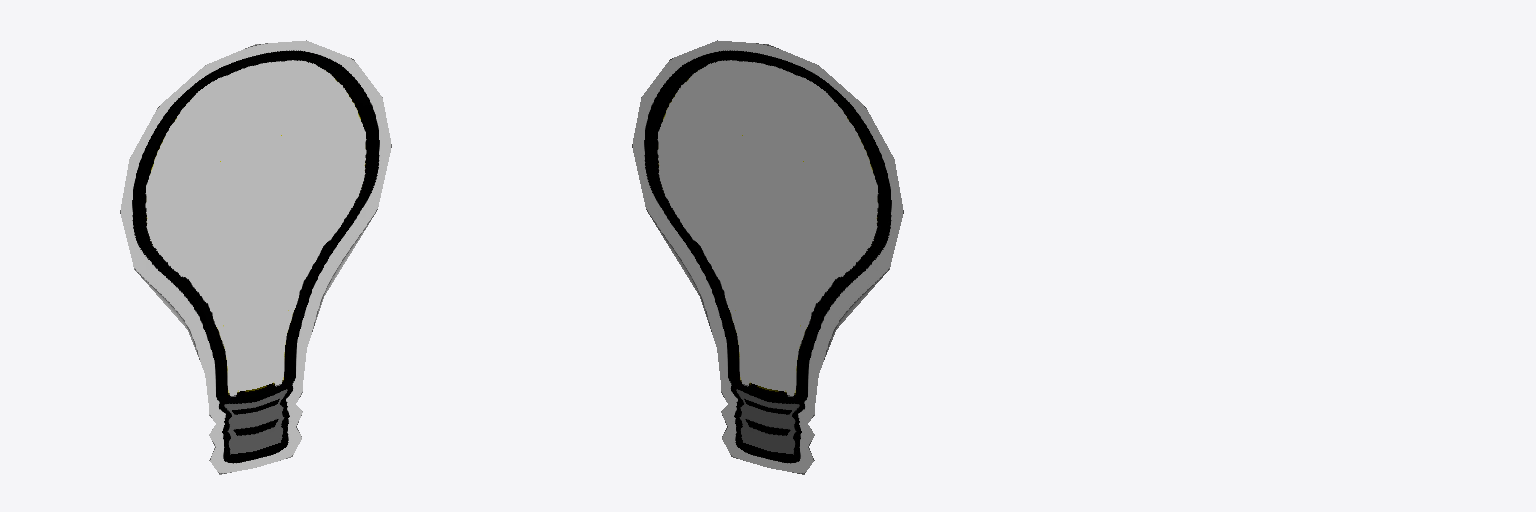
The picture shows the model from 3 angles: view 1: azimuth 30°, elevation 25°; view 2: azimuth 150°, elevation 25°; view 3: azimuth 270°, elevation 25°; orthographic projection.
Visible parts, largest first — view 1: Bulb; view 2: Bulb; view 3: none.
Part boxes in pixels (x1,y1,x2,y2): Bulb: (120, 40, 391, 474); Bulb: (632, 40, 903, 474).
Bounding box in the file's own units: 1.48 × 2.21 × 0.
1 materials, 1 textured.